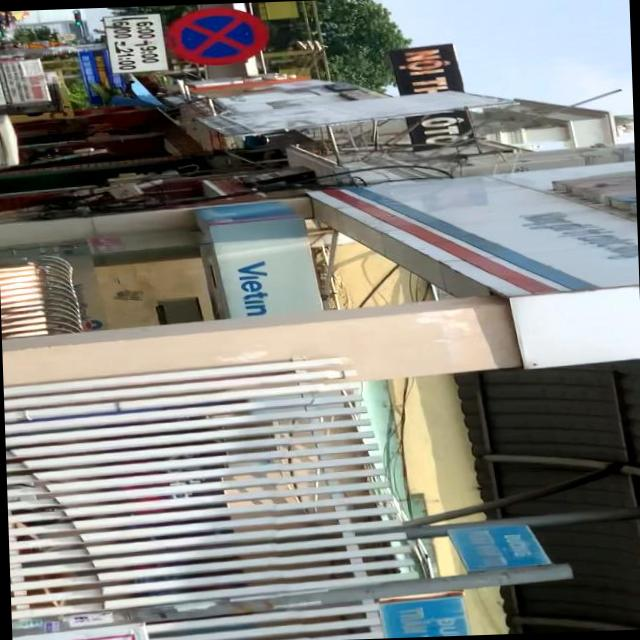P-130: (168, 6, 270, 66)
